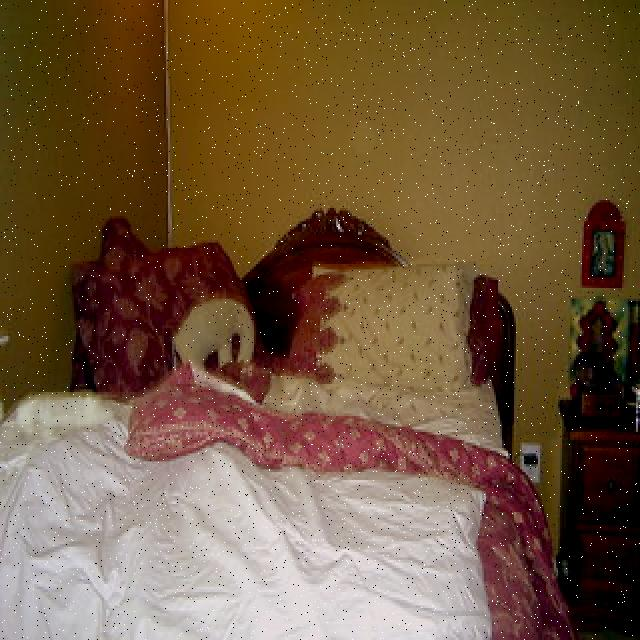bed: (16, 210, 566, 640)
